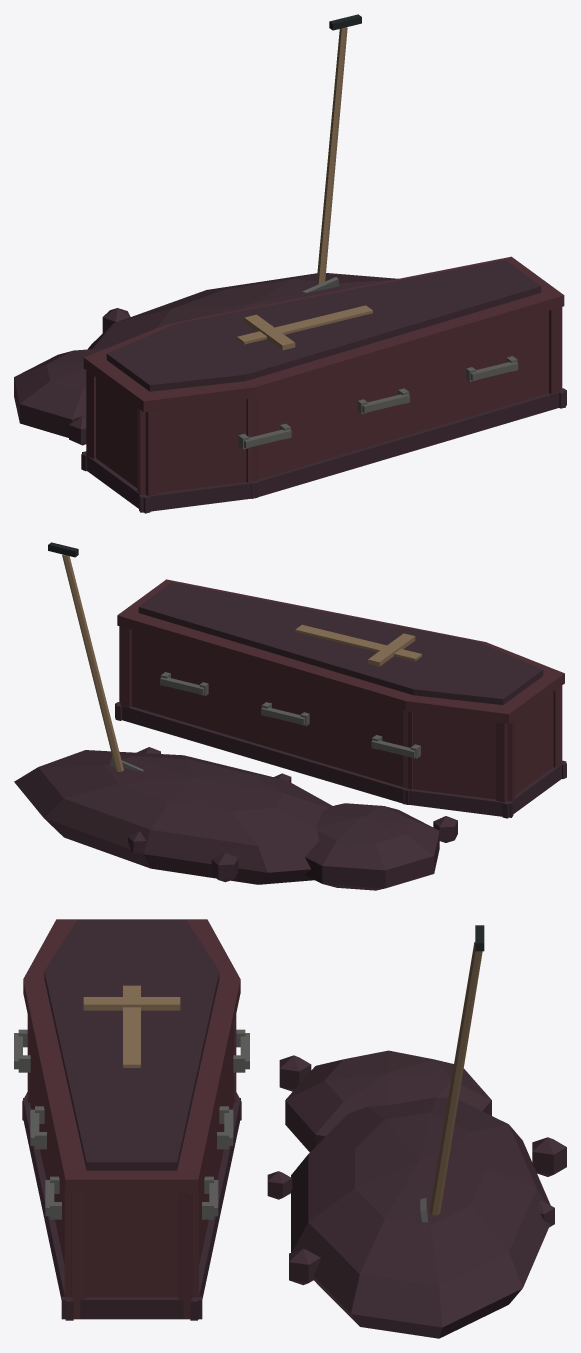
Rendered from sicriu.glb.
3 views of the same model, one above another, from view 1: azimuth 30°, elevation 25°; view 2: azimuth 150°, elevation 25°; view 3: azimuth 270°, elevation 25° (orthographic). The views are drawn at different scales.
Parts seen in each view (by area): view 1: Sicriu, Capac, Pamant; view 2: Sicriu, Pamant, Capac; view 3: Pamant, Capac, Sicriu.
Part boxes in pixels (box(x1,y1,x2,y2)): Sicriu: box(81, 307, 566, 513); Capac: box(83, 256, 564, 412); Pamant: box(14, 14, 398, 445); Sicriu: box(115, 626, 566, 818); Pamant: box(14, 542, 457, 890); Capac: box(117, 579, 564, 724); Pamant: box(267, 925, 566, 1338); Capac: box(23, 919, 240, 1193); Sicriu: box(14, 1014, 249, 1320).
Size of the model in its own units: 2.12 by 1.48 by 1.83.
